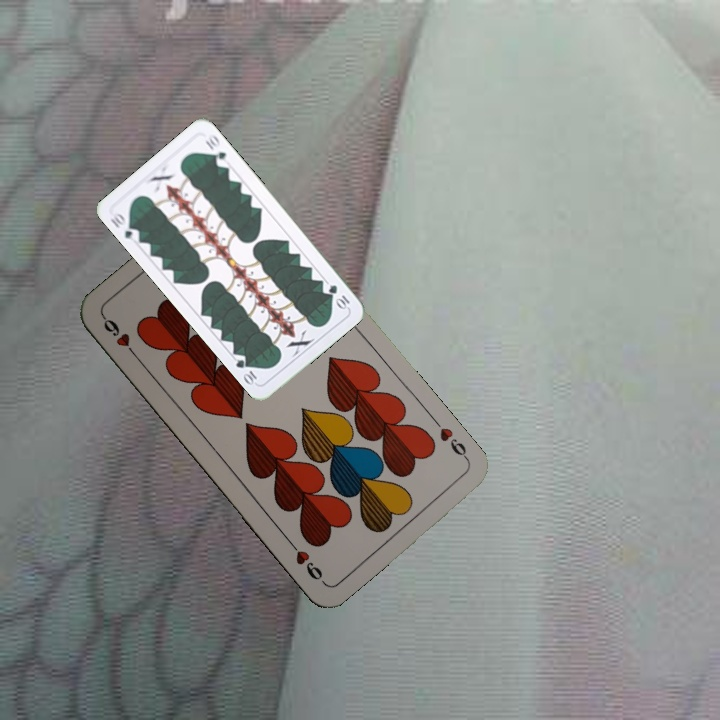G10: (106, 209, 142, 245), (324, 280, 352, 312)
H9: (429, 415, 472, 465), (99, 313, 142, 362)
